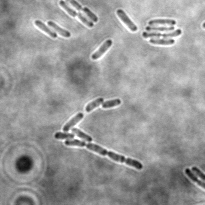microcolony: (55, 96, 144, 171), (139, 17, 183, 46), (56, 1, 98, 28)
rod: (113, 6, 138, 32), (89, 37, 114, 62), (31, 18, 58, 40), (45, 18, 72, 38)
